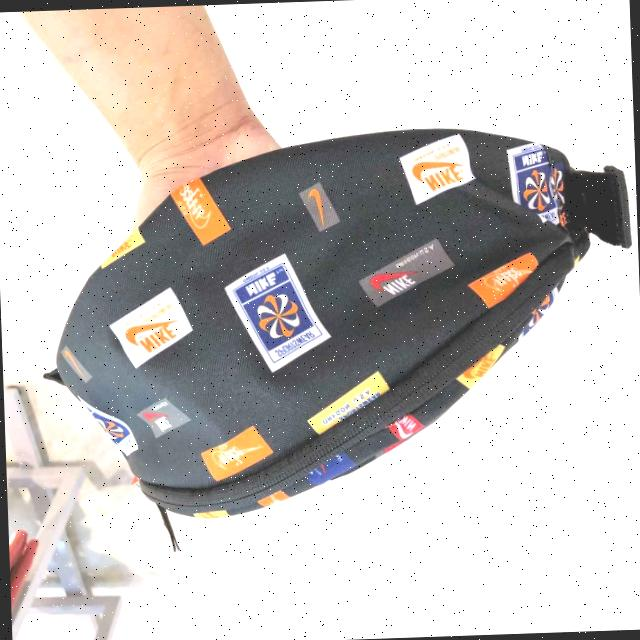Handbag: (44, 126, 588, 522)
